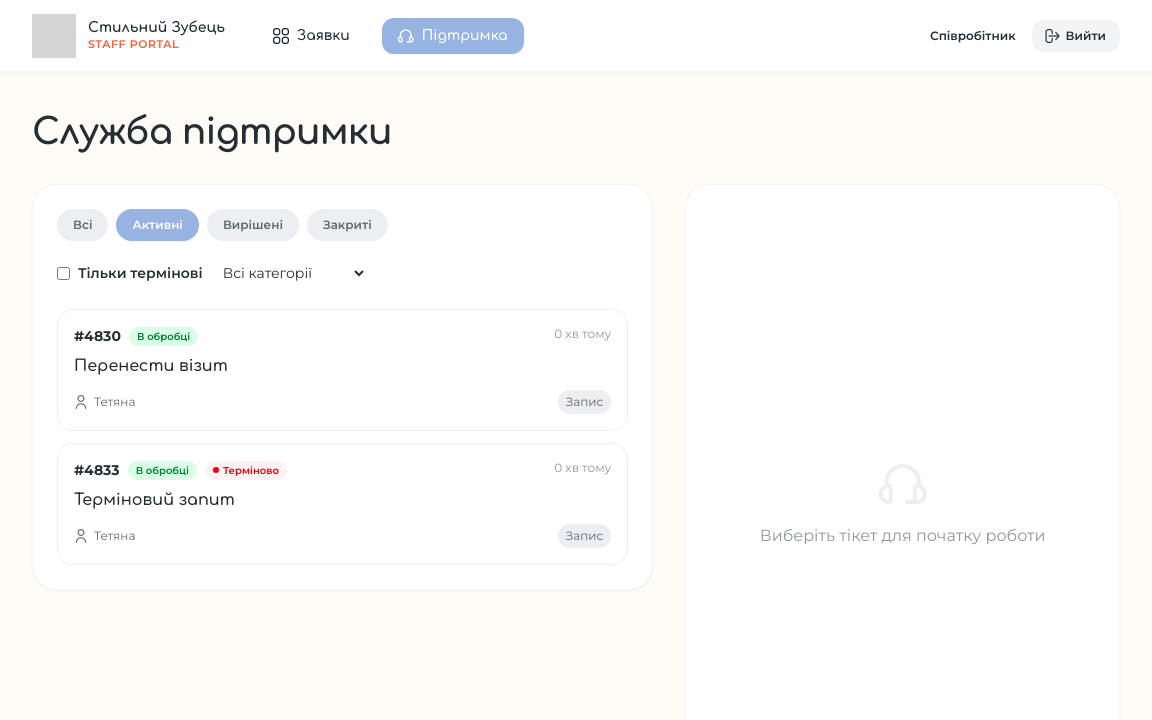
AdminSupportPage › filters by urgency toggle
What coordinates should you click on to do the following:
click the tab "Всі"
I would click on:
 (83, 225)
Its box is [57,209,108,241].
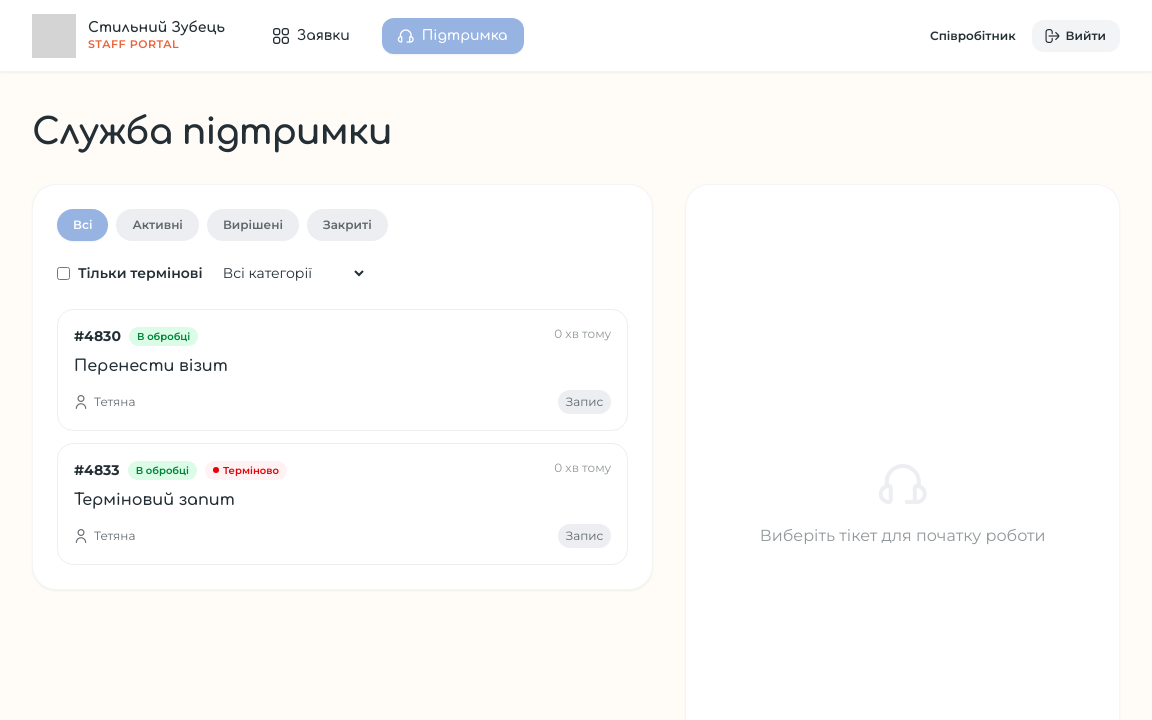
Check: the text "#4830" is shown, box [74,326,121,346]
Check: the text "#4833" is shown, box [74,460,120,480]
What coordinates should you click on to do the following:
click the checkbox labelled "Тільки термінові"
I would click on:
 (64, 273)
Its box is [57,266,70,280].
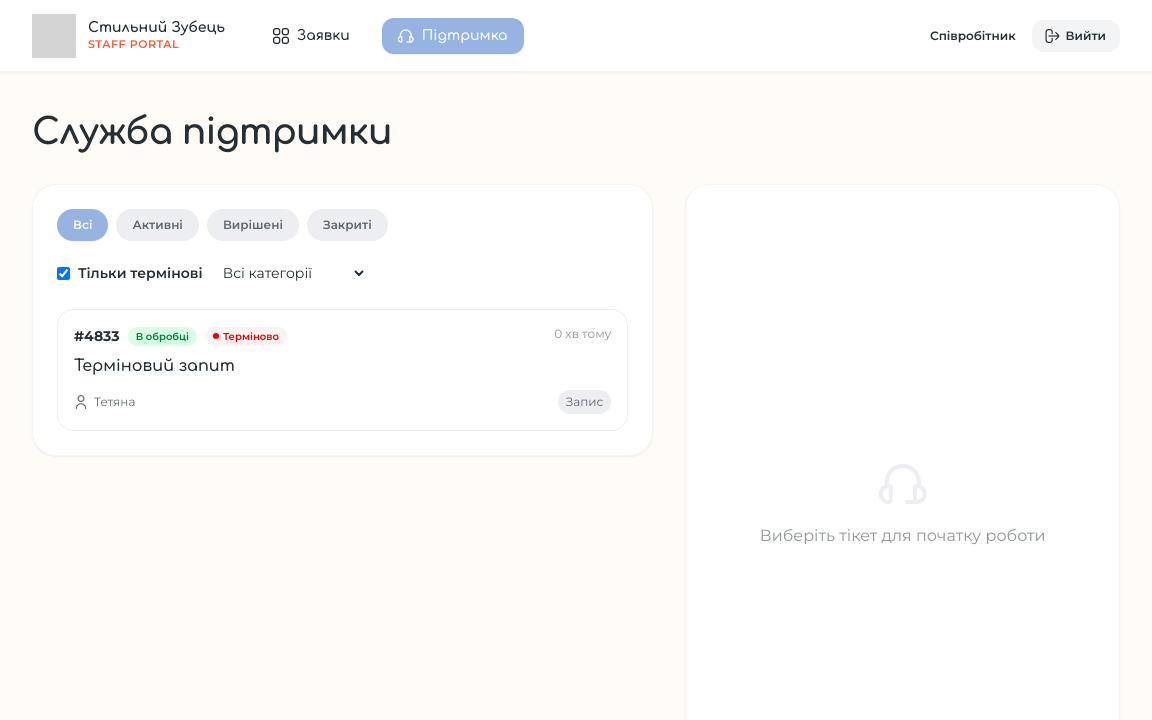
Check: the text "#4833" is shown, box [74,326,120,346]
Check: the text "#4830" is gone
